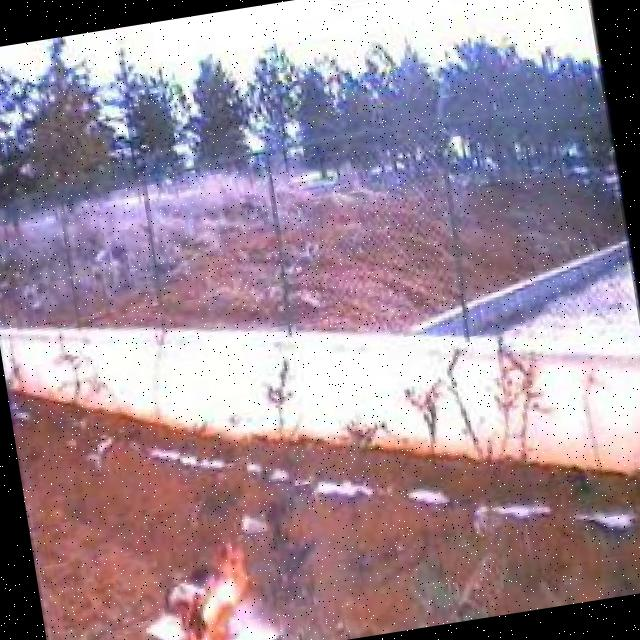fire: (155, 537, 281, 640)
